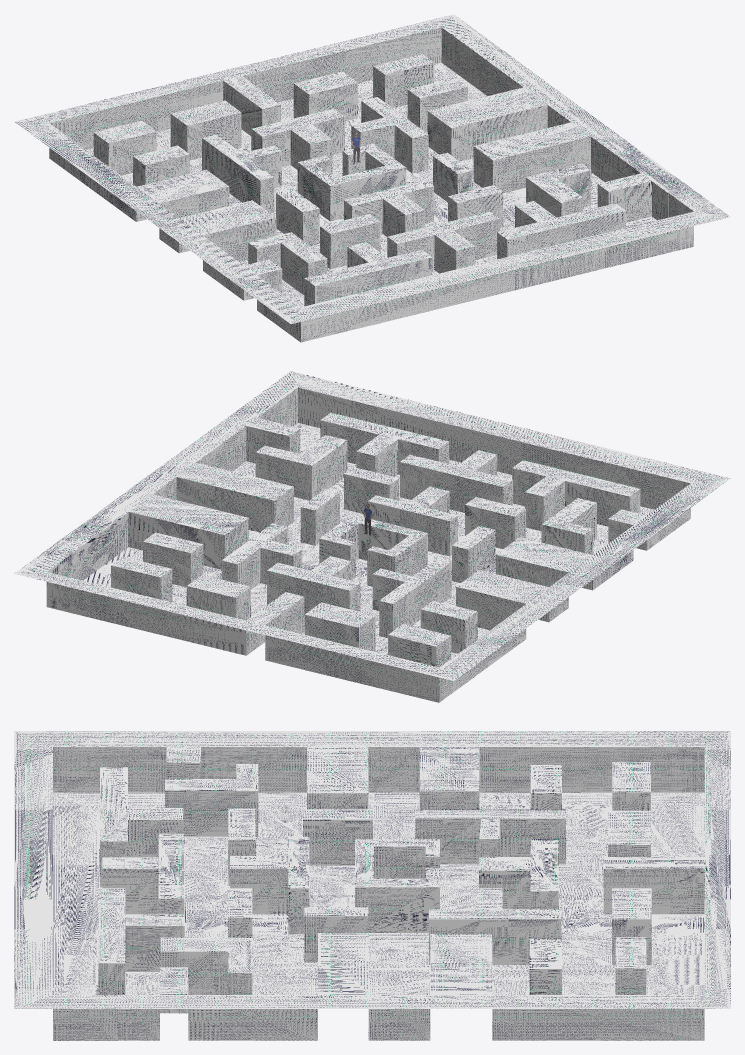
Rendered from pac.dae.
The picture shows the model from 3 angles, top to bottom: view 1: azimuth 30°, elevation 25°; view 2: azimuth 150°, elevation 25°; view 3: azimuth 270°, elevation 25°; orthographic projection. The views are drawn at different scales.
Visible parts, largest first — view 1: SketchUp (×23); view 2: SketchUp (×23); view 3: SketchUp (×23).
Boxes of the visible parts, x1,y1,x2,y2 form: SketchUp (×23): [14, 14, 730, 342]; SketchUp (×23): [14, 371, 730, 702]; SketchUp (×23): [14, 731, 730, 1040].
Bounding box in the file's own units: 1047 × 1141 × 152.
